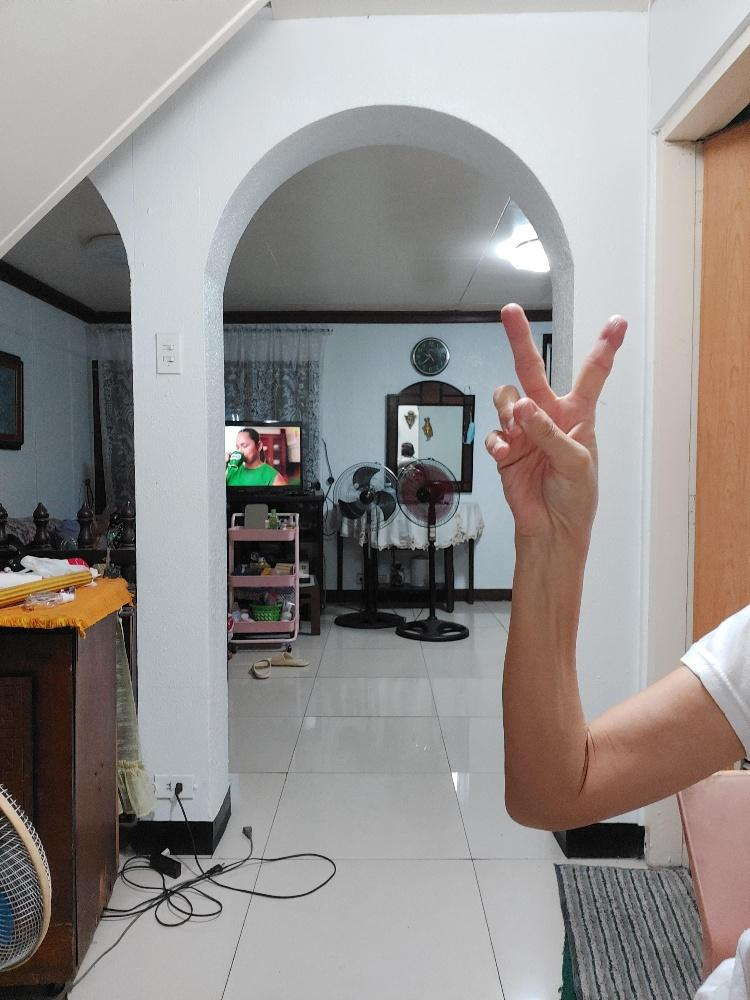v: (483, 301, 627, 536)
